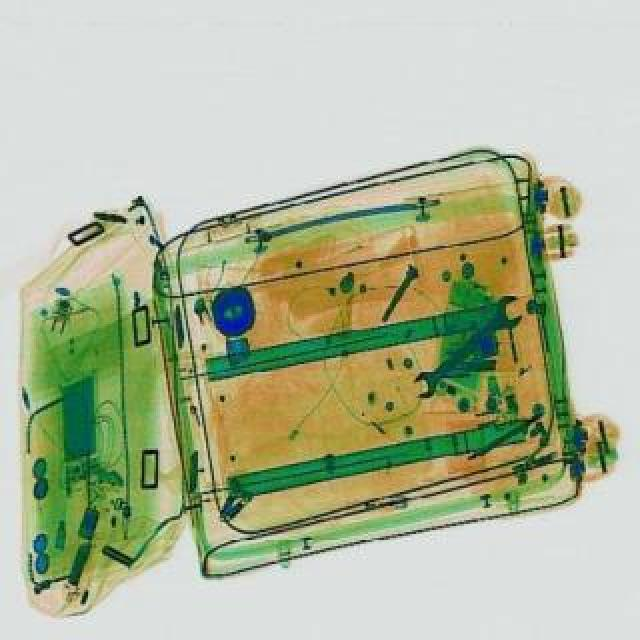scissors: (402, 286, 534, 402)
